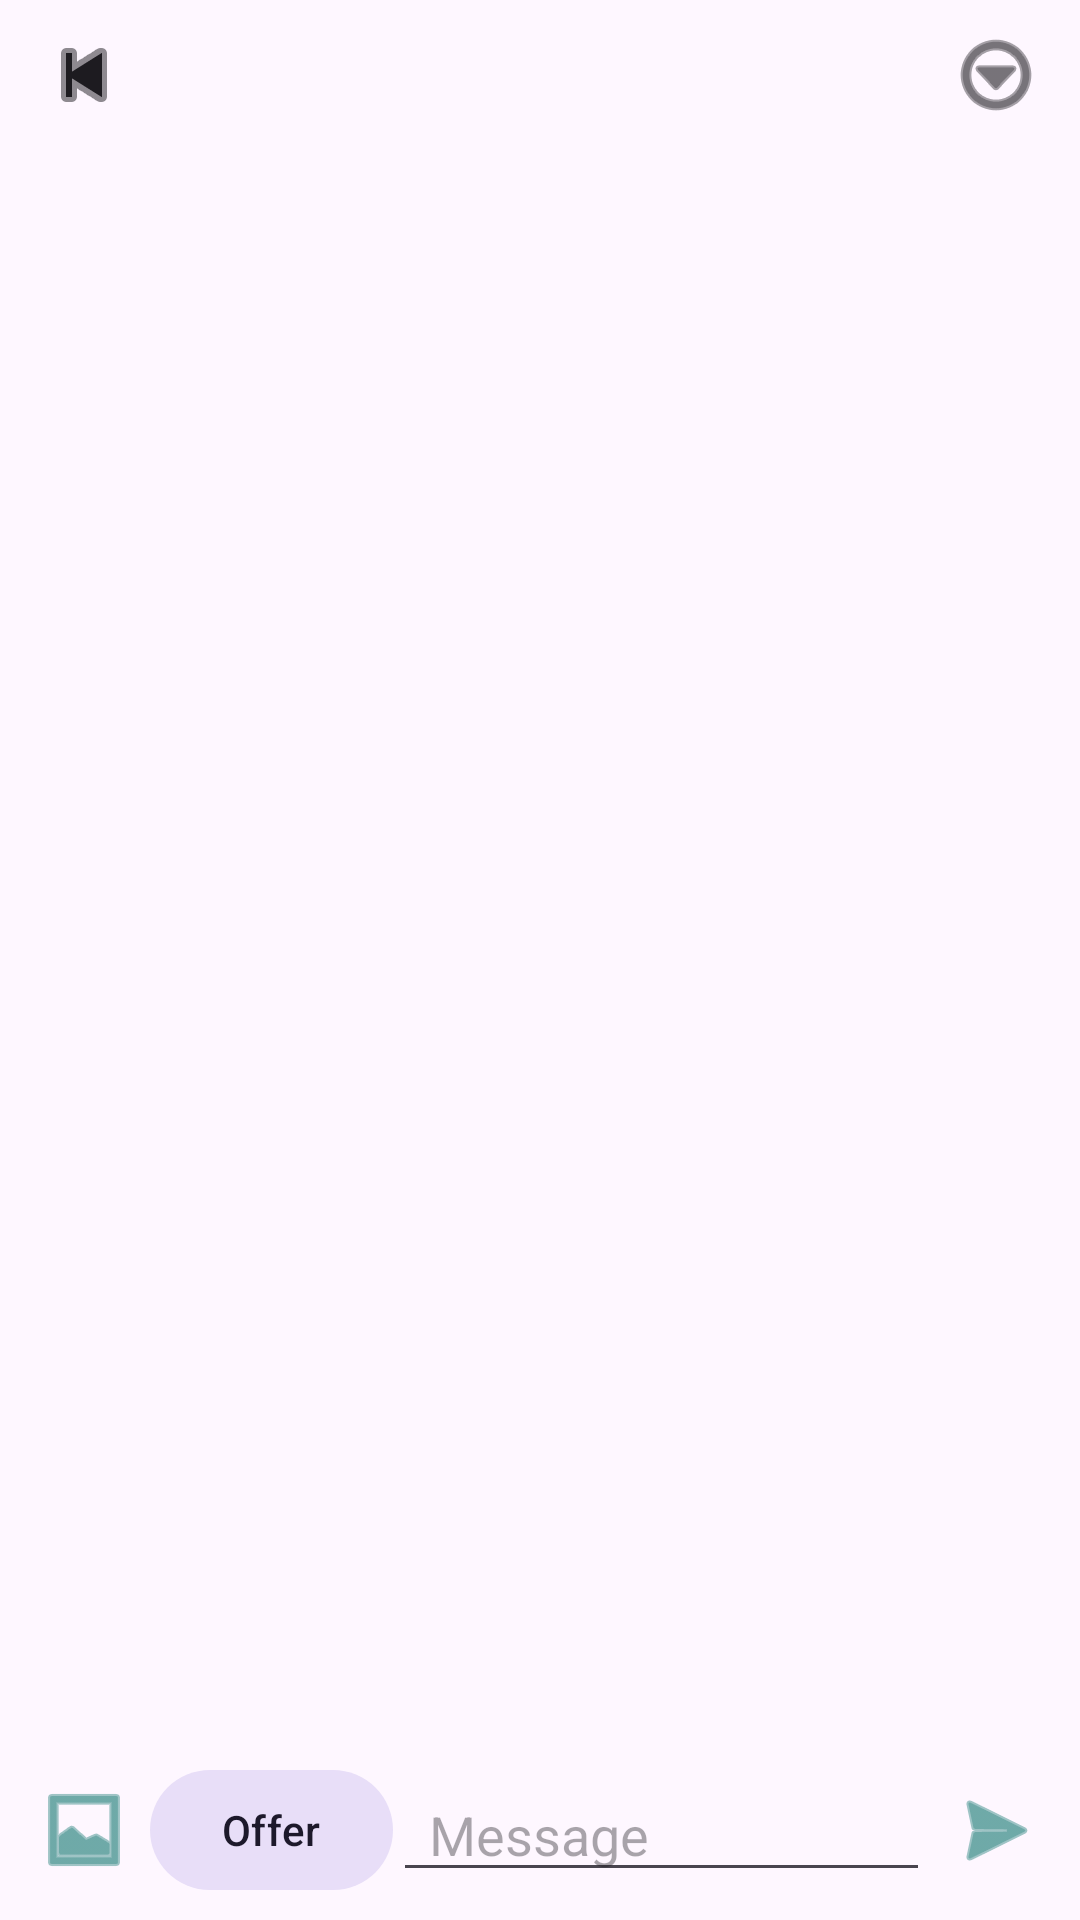

Point at icon controls on the screen. Image size 1080×1920, points as (x,y).
Back: (84,75)
More: (996,75)
Send: (997,1830)
Send photo: (84,1830)
